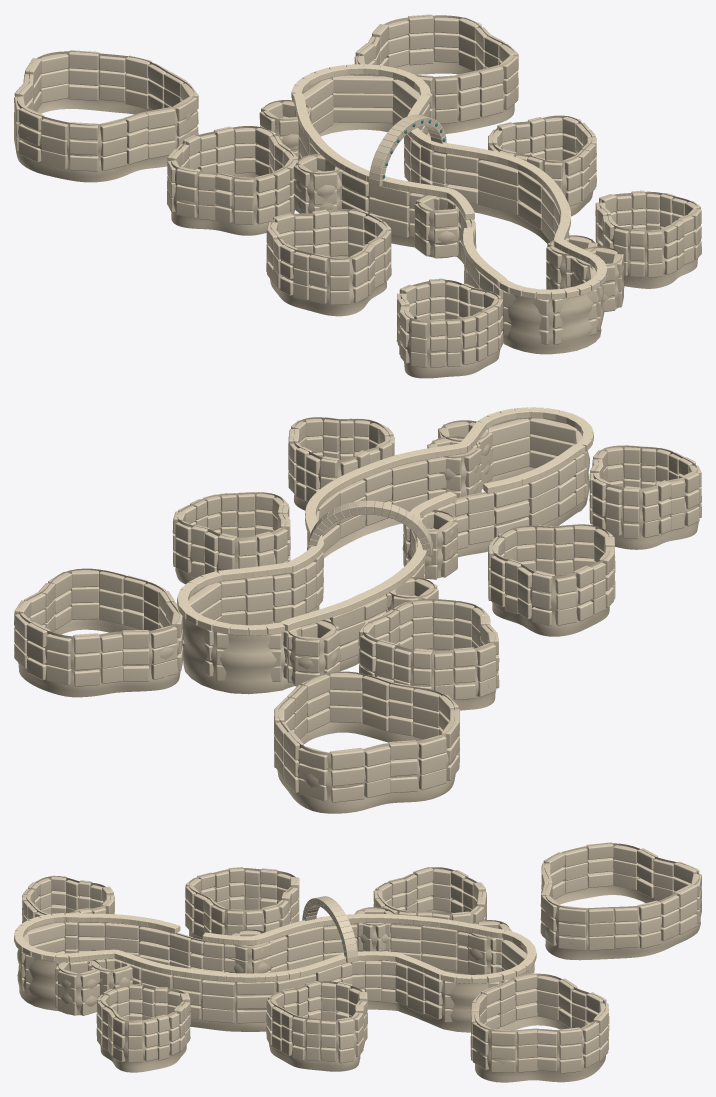
File: oasis-course-3.glb
3 renders of one model, top to bottom at view 1: azimuth 30°, elevation 25°; view 2: azimuth 150°, elevation 25°; view 3: azimuth 270°, elevation 25°, orthographic. The views are drawn at different scales.
Visible parts, largest first — view 1: Oasis artisan masonry; view 2: Oasis artisan masonry; view 3: Oasis artisan masonry.
Part boxes in pixels (x1,y1,x2,y2): Oasis artisan masonry: (14,14,701,378); Oasis artisan masonry: (14,407,701,813); Oasis artisan masonry: (14,842,701,1082).
Size of the model in its own units: 17.73 by 4.07 by 27.04.
